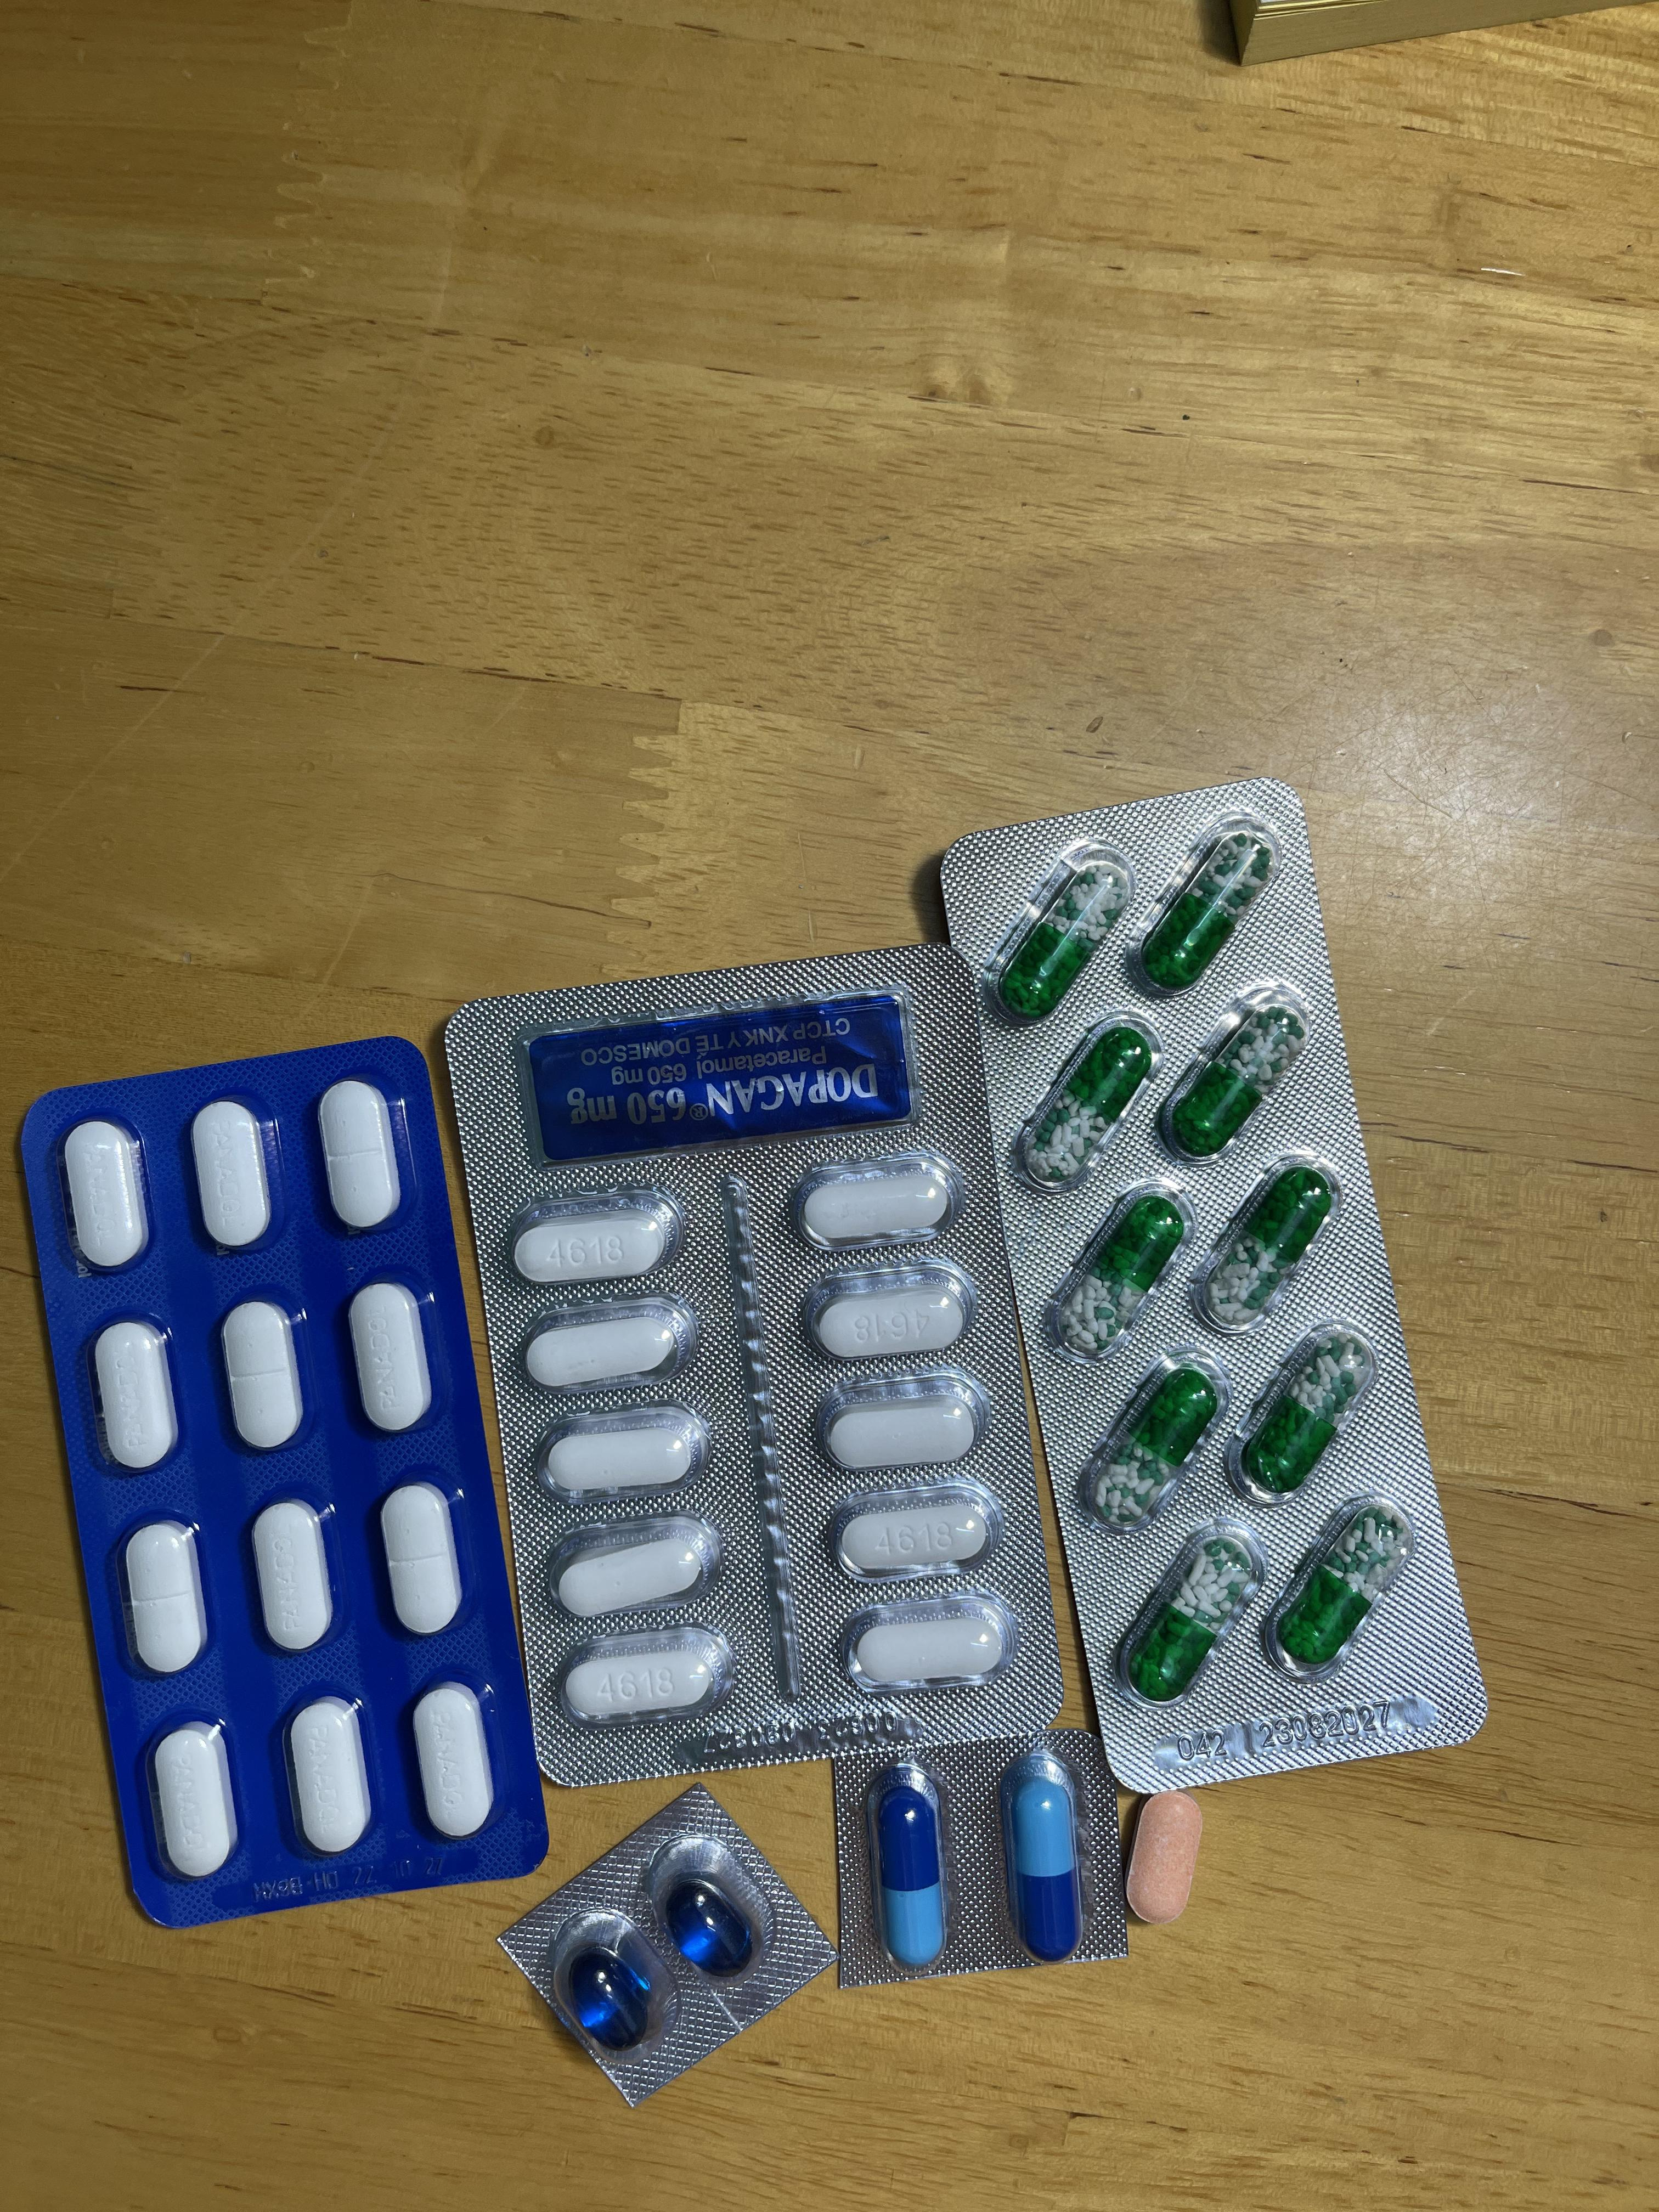Lincomyxin_500mg: (666, 1876, 753, 1973), (568, 1946, 650, 2047)
Loratadine_10mg: (1127, 1789, 1202, 1921)
Paracetamol_350mg: (120, 1519, 209, 1677), (89, 1320, 179, 1474), (150, 1723, 237, 1881), (286, 1696, 371, 1857), (218, 1299, 305, 1453), (61, 1120, 148, 1273), (410, 1683, 495, 1838), (249, 1500, 335, 1653), (378, 1482, 464, 1635), (347, 1282, 432, 1433), (190, 1101, 274, 1251), (319, 1080, 401, 1231)
Paracetamol_500mg: (507, 1191, 676, 1284), (563, 1632, 725, 1724), (552, 1522, 713, 1615), (809, 1270, 969, 1360), (540, 1411, 702, 1498), (847, 1602, 1004, 1691), (523, 1306, 687, 1390), (795, 1158, 955, 1244), (833, 1493, 995, 1576), (821, 1390, 979, 1470)
Paracetamol_650mg: (1161, 988, 1312, 1162), (1194, 1158, 1344, 1334), (1234, 1325, 1380, 1500), (1046, 1186, 1192, 1360), (1012, 1017, 1159, 1191), (1086, 1355, 1225, 1531), (1138, 822, 1279, 993), (995, 846, 1133, 1021), (1129, 1531, 1258, 1698), (1277, 1501, 1405, 1663)
pill: (873, 1768, 946, 1968), (1007, 1763, 1080, 1958)
